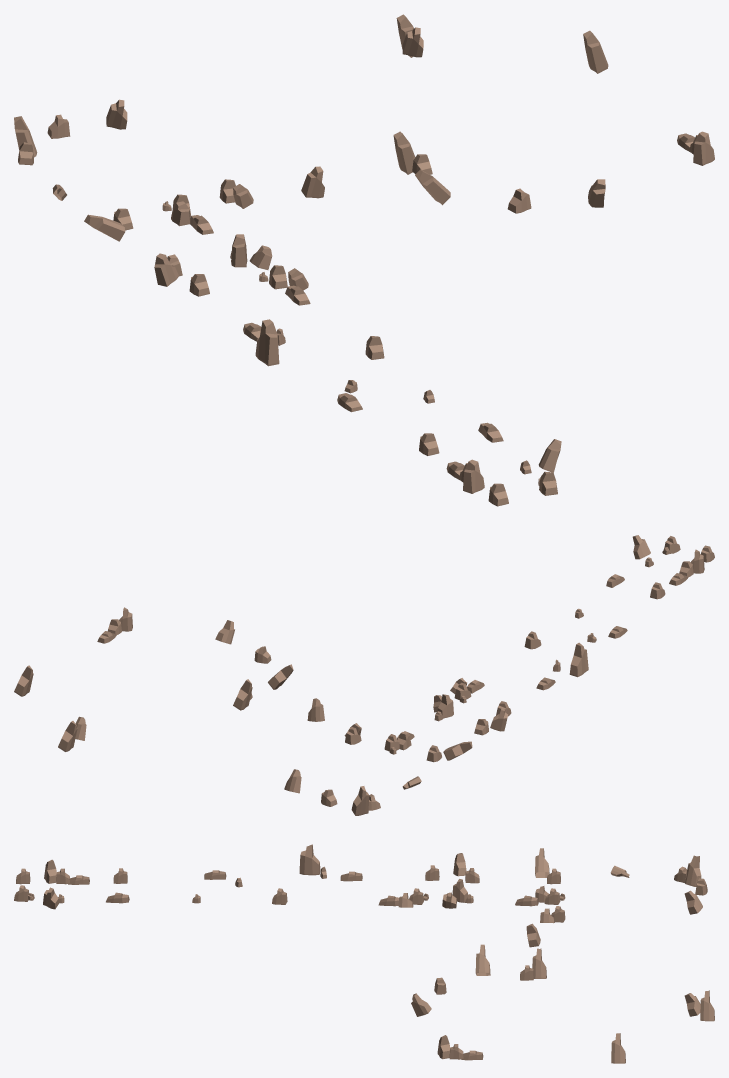
File: rocks.fbx
3 views of the same model, one above another, from view 1: azimuth 30°, elevation 25°; view 2: azimuth 150°, elevation 25°; view 3: azimuth 270°, elevation 25° (orthographic). The views are drawn at different scales.
Visible parts, largest first — view 1: Object_6; view 2: Object_6; view 3: Object_6.
Boxes of the visible parts, x1=… form: Object_6: x1=14, y1=14, x2=714, y2=506; Object_6: x1=14, y1=535, x2=714, y2=815; Object_6: x1=14, y1=844, x2=714, y2=1063.
Bounding box in the file's own units: 1211 × 85.36 × 1811.
